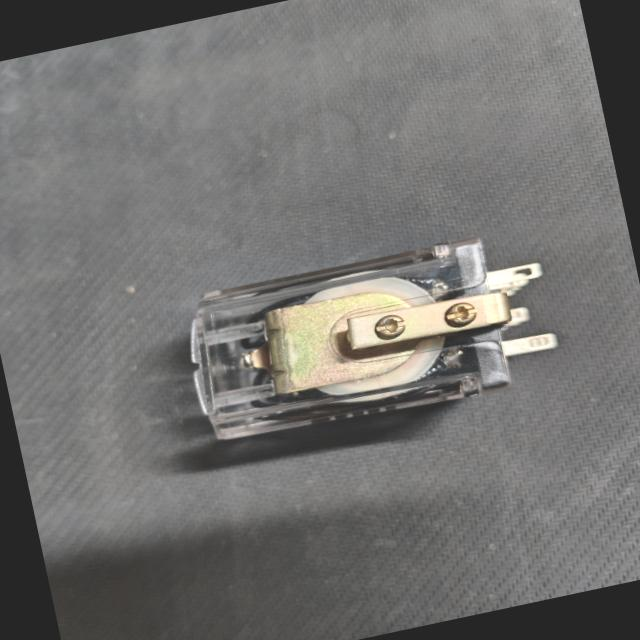relay: (150, 207, 576, 478)
